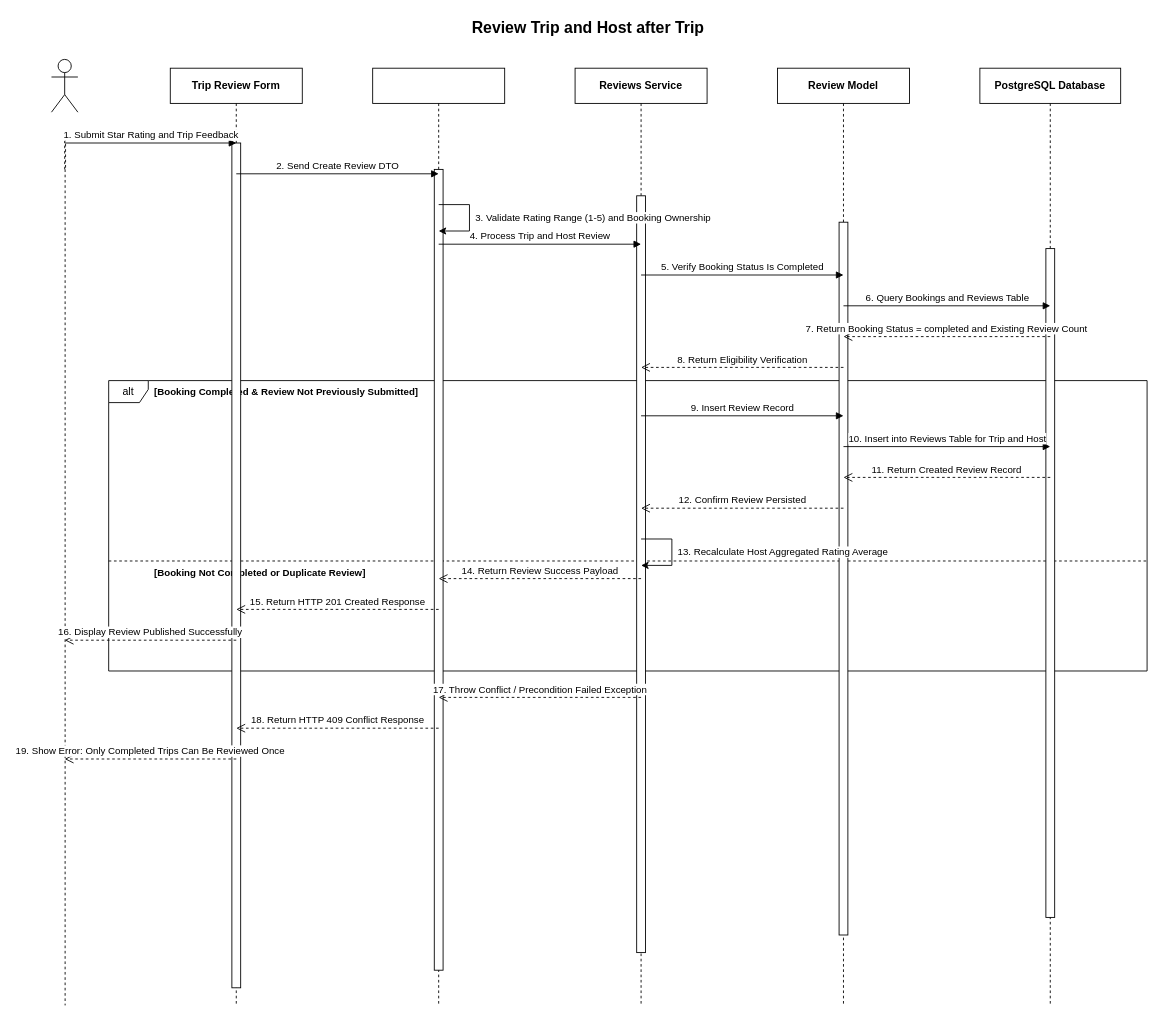
Image size: 1162x1021. Some labels were removed from this diagram. The shapes that lost their labels are listed below. From the top down, each one's box as (x1, y1, x2, y2) in pixels, then its label:
(51, 59, 78, 112): Camper
(372, 67, 505, 1005): Reviews Controller
